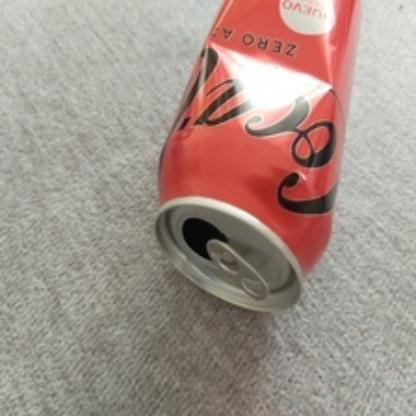Can: (153, 0, 363, 314)
